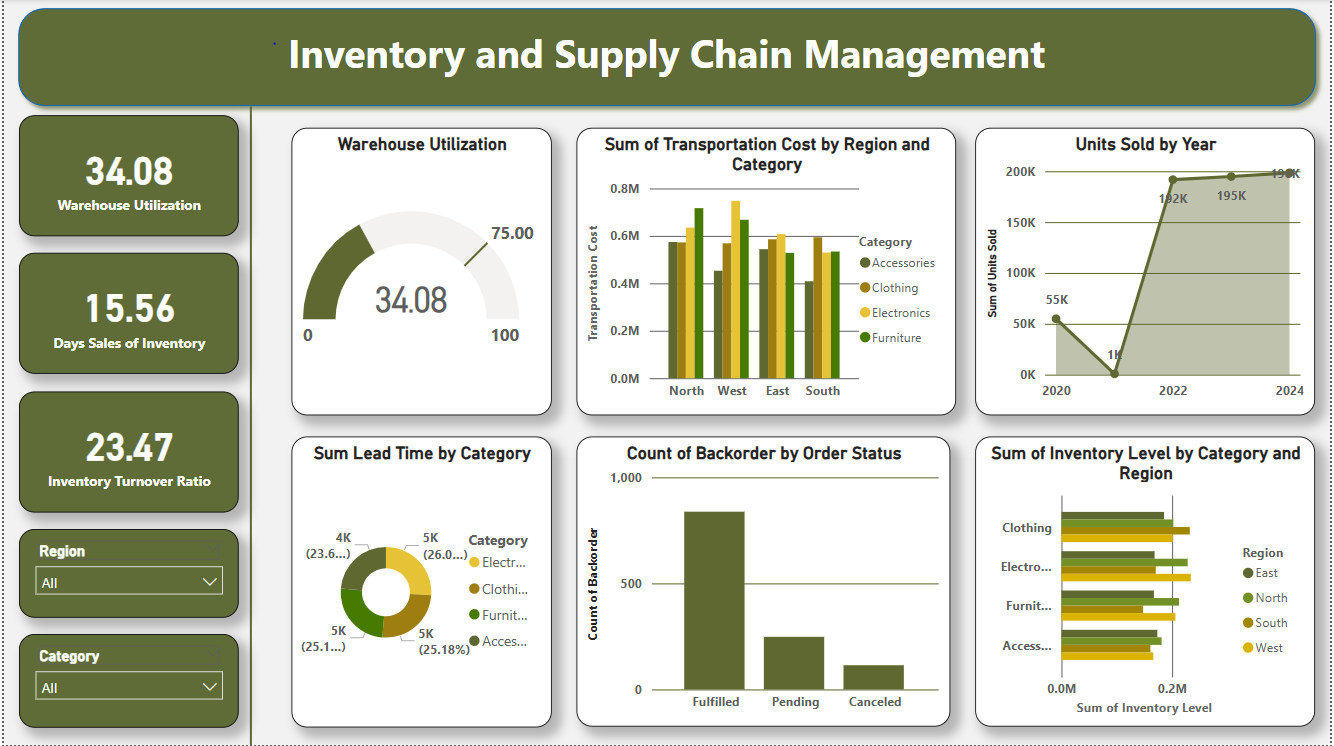

The page's visual inventory and layout, read from the dashboard file:
{"tool":"powerbi","page":{"name":"Page 1","canvas":[1280,720],"ordinal":0},"visuals":[{"type":"shape","box":[4.8,0,1270.4,112.2],"z":0},{"type":"textbox","box":[200.9,21.7,878.3,68.8],"z":1000},{"type":"shape","box":[226.8,103.8,22.9,616.5],"z":2000},{"type":"card","fields":{"Values":["Inventory & SupplyChain Dataset.Warehouse Utilization"]},"box":[14.5,112.2,212.3,117],"z":3000},{"type":"card","fields":{"Values":["Inventory & SupplyChain Dataset.Days Sales of Inventory"]},"box":[14.5,244.9,212.3,117],"z":4000},{"type":"card","fields":{"Values":["Inventory & SupplyChain Dataset.Inventory Turnover Ratio"]},"box":[14.5,378.8,212.3,117],"z":5000},{"type":"slicer","fields":{"Values":["Inventory & SupplyChain Dataset.Region"]},"box":[14.5,511.5,212.3,85.7],"z":6000},{"type":"slicer","fields":{"Values":["Inventory & SupplyChain Dataset.Category"]},"box":[14.5,612.9,212.3,90.5],"z":7000},{"type":"gauge","fields":{"Y":["Inventory & SupplyChain Dataset.Warehouse Utilization"]},"box":[277.5,124.3,250.9,277.5],"z":8000},{"type":"clusteredColumnChart","fields":{"Y":["Sum(Inventory & SupplyChain Dataset.Transportation Cost)"],"Category":["Inventory & SupplyChain Dataset.Region"],"Series":["Inventory & SupplyChain Dataset.Category"]},"box":[552.5,124.3,366.8,277.5],"z":9000},{"type":"lineChart","title":"Units Sold by Year","fields":{"Y":["Sum(Inventory & SupplyChain Dataset.Units Sold)"],"Category":["Inventory & SupplyChain Dataset.Date.Variation.Date Hierarchy.Year"]},"box":[937.4,124.3,328.2,277.5],"z":10000},{"type":"donutChart","title":"Sum Lead Time by Category","fields":{"Y":["Sum(Inventory & SupplyChain Dataset.Lead Time)"],"Category":["Inventory & SupplyChain Dataset.Category"]},"box":[277.5,422.3,250.9,281.1],"z":11000},{"type":"clusteredColumnChart","fields":{"Category":["Inventory & SupplyChain Dataset.Order Status"],"Y":["CountNonNull(Inventory & SupplyChain Dataset.Backorder)"]},"box":[552.5,422.3,360.7,279.9],"z":12000},{"type":"clusteredBarChart","fields":{"Category":["Inventory & SupplyChain Dataset.Category"],"Y":["Sum(Inventory & SupplyChain Dataset.Inventory Level)"],"Series":["Inventory & SupplyChain Dataset.Region"]},"box":[937.4,422.3,328.2,279.9],"z":13000}]}

Visuals, with their boxes in screenshot pixels (x1, y1, x2, y2), scaled from the page's 1280x720 canvas onto the 1334x746 screenshot:
shape: {"x1": 5, "y1": 0, "x2": 1329, "y2": 116}
textbox: {"x1": 209, "y1": 22, "x2": 1125, "y2": 94}
shape: {"x1": 236, "y1": 108, "x2": 260, "y2": 745}
card - Inventory & SupplyChain Dataset.Warehouse Utilization: {"x1": 15, "y1": 116, "x2": 236, "y2": 237}
card - Inventory & SupplyChain Dataset.Days Sales of Inventory: {"x1": 15, "y1": 254, "x2": 236, "y2": 375}
card - Inventory & SupplyChain Dataset.Inventory Turnover Ratio: {"x1": 15, "y1": 392, "x2": 236, "y2": 514}
slicer - Inventory & SupplyChain Dataset.Region: {"x1": 15, "y1": 530, "x2": 236, "y2": 619}
slicer - Inventory & SupplyChain Dataset.Category: {"x1": 15, "y1": 635, "x2": 236, "y2": 729}
gauge - Inventory & SupplyChain Dataset.Warehouse Utilization: {"x1": 289, "y1": 129, "x2": 551, "y2": 416}
clusteredColumnChart - Sum(Inventory & SupplyChain Dataset.Transportation Cost) x Inventory & SupplyChain Dataset.Region: {"x1": 576, "y1": 129, "x2": 958, "y2": 416}
"Units Sold by Year" lineChart: {"x1": 977, "y1": 129, "x2": 1319, "y2": 416}
"Sum Lead Time by Category" donutChart: {"x1": 289, "y1": 438, "x2": 551, "y2": 729}
clusteredColumnChart - Inventory & SupplyChain Dataset.Order Status x CountNonNull(Inventory & SupplyChain Dataset.Backorder): {"x1": 576, "y1": 438, "x2": 952, "y2": 728}
clusteredBarChart - Inventory & SupplyChain Dataset.Category x Sum(Inventory & SupplyChain Dataset.Inventory Level): {"x1": 977, "y1": 438, "x2": 1319, "y2": 728}
